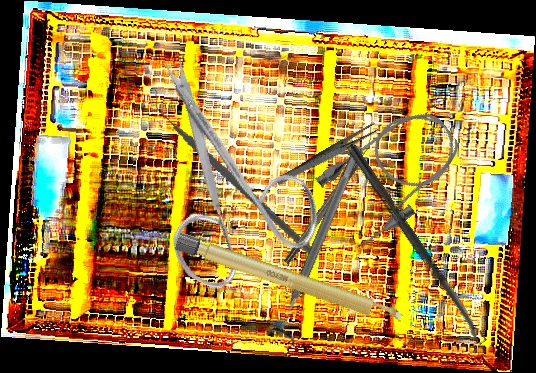Cannula: (308, 95, 477, 254)
Chopper: (129, 88, 340, 256)
Dressing Forceps: (274, 121, 380, 189)
Fixation Ring: (265, 140, 374, 347)
Hook Surgical: (282, 143, 374, 265)
Iris Scissors: (78, 50, 358, 319)
Scalpel Handle: (174, 231, 405, 329)
Surgical Spoon: (344, 142, 488, 347)
